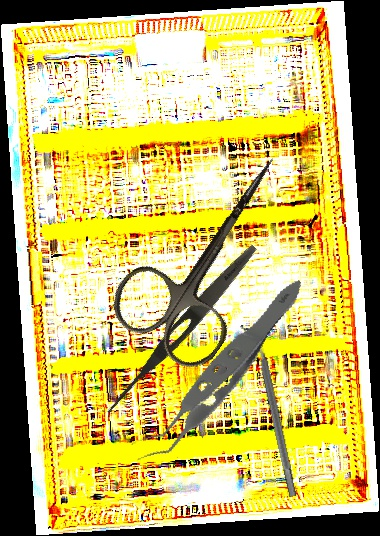Dressing Forceps: (101, 240, 262, 420)
Fixation Ring: (238, 319, 308, 500)
Iris Scissors: (100, 126, 325, 379)
Tissue Forceps: (94, 277, 339, 466)
